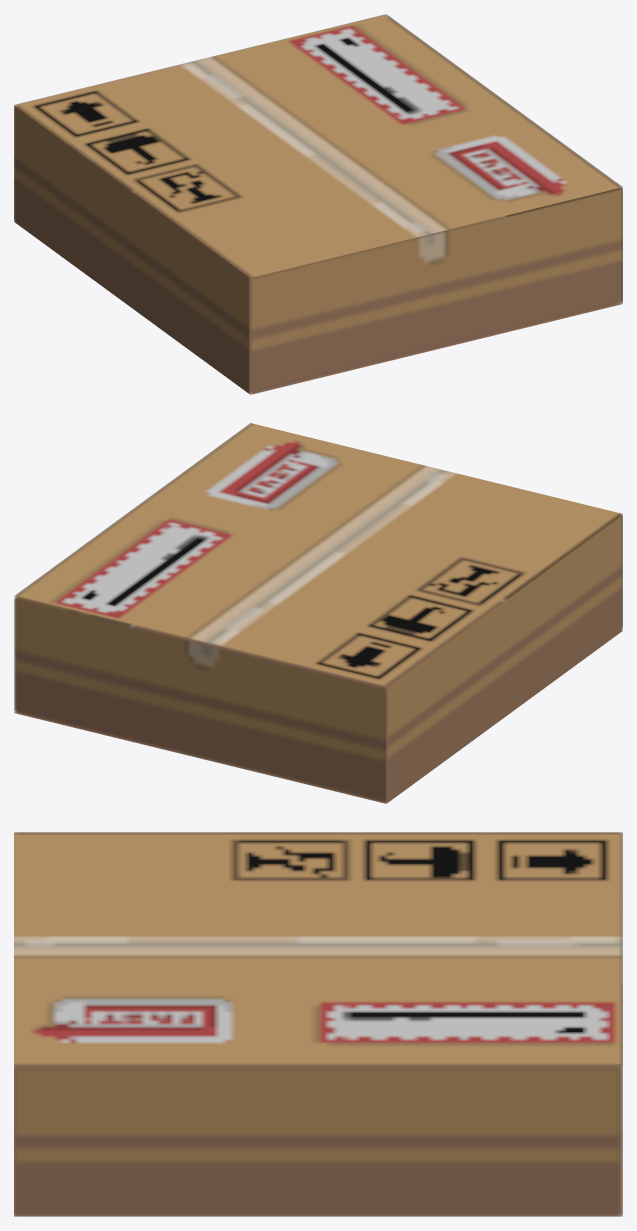
File: cuboid8.glb
The picture shows the model from 3 angles, top to bottom: view 1: azimuth 30°, elevation 25°; view 2: azimuth 150°, elevation 25°; view 3: azimuth 270°, elevation 25°; orthographic projection. The views are drawn at different scales.
Parts seen in each view (by area): view 1: cuboid_7; view 2: cuboid_7; view 3: cuboid_7.
Boxes of the visible parts, x1=… form: cuboid_7: x1=14, y1=14, x2=622, y2=394; cuboid_7: x1=14, y1=423, x2=622, y2=803; cuboid_7: x1=14, y1=832, x2=622, y2=1216.
Size of the model in its own units: 1.25 by 0.375 by 1.37.
1 material, 1 textured.
